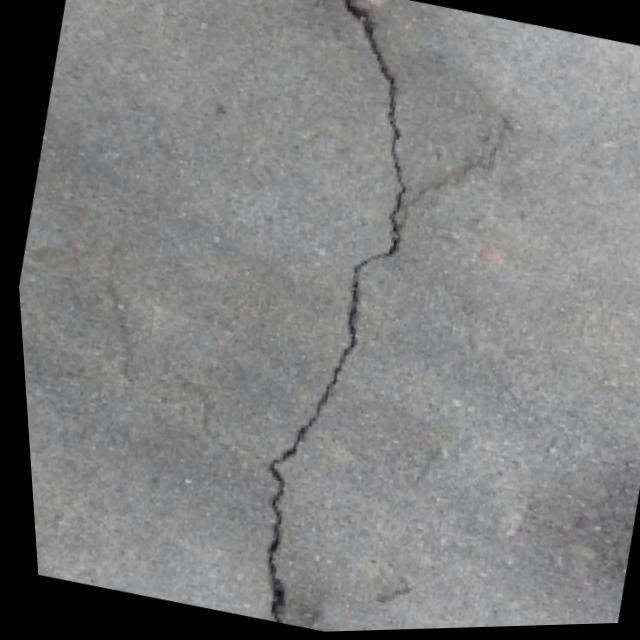Crack: (178, 0, 496, 636)
